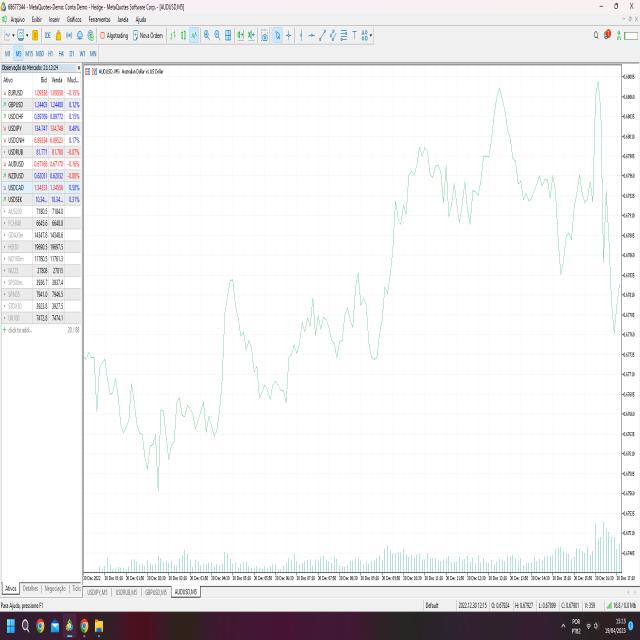oco: (455, 88, 564, 275)
